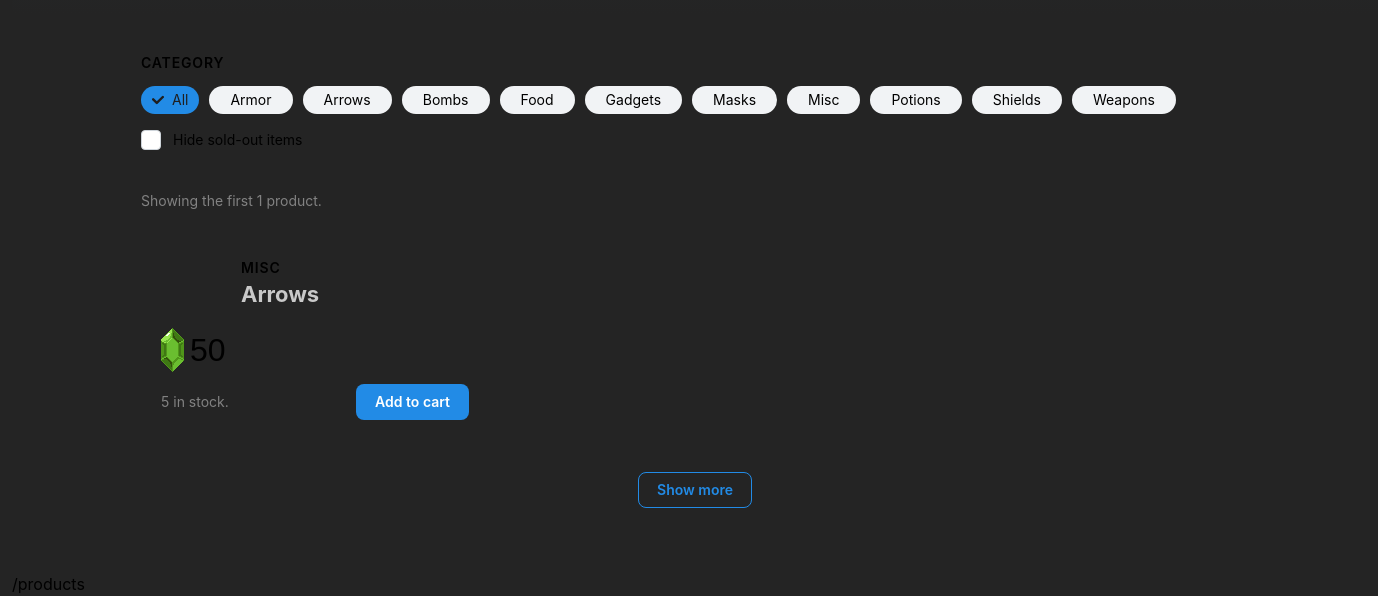
CatalogPage › loads the next page and moves focus to the first new product
(page scrolled)
Click the button "Show more" at (695, 490), box [638,472,752,508]
(page scrolled)
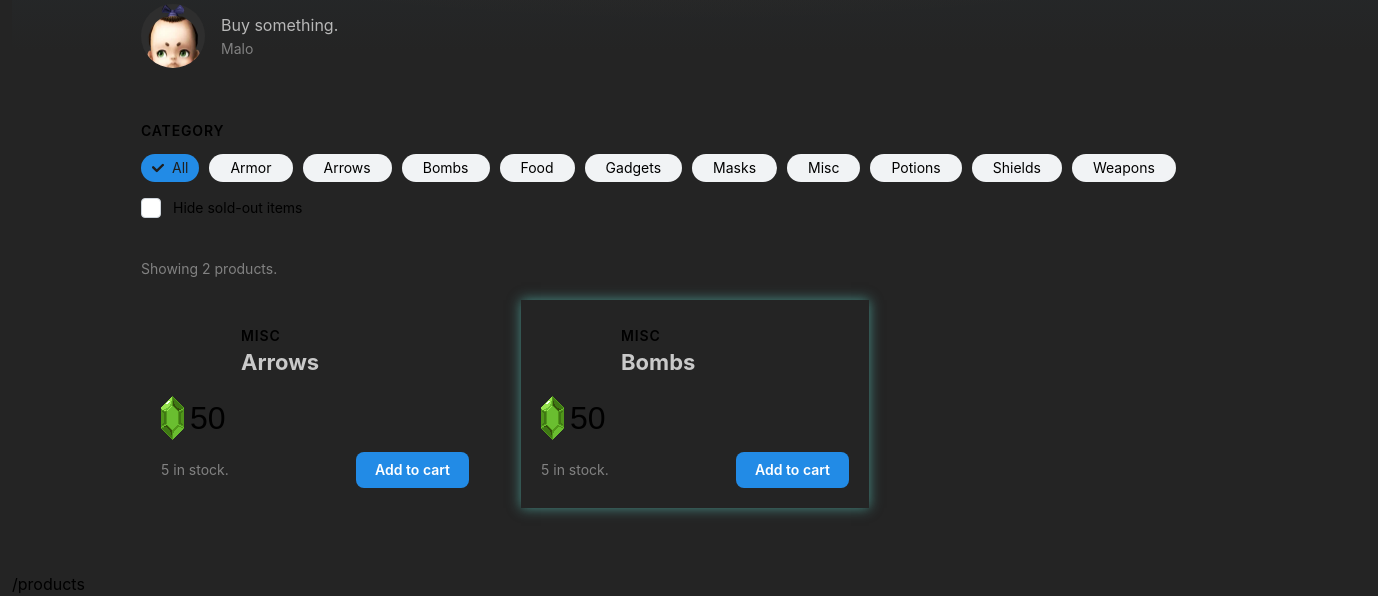
Expected: the link "Arrows" is shown, [241,349,319,375]
Now the button "Show more" is gone
